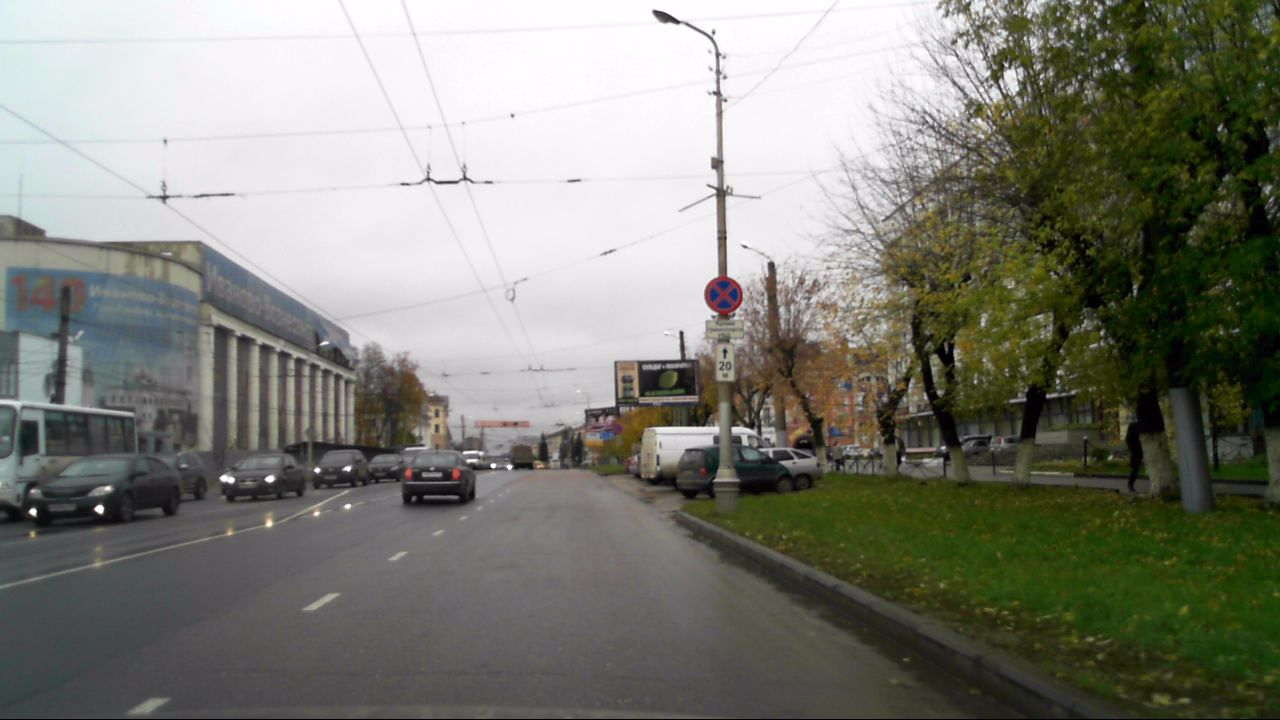No Parking: (704, 276, 743, 314)
